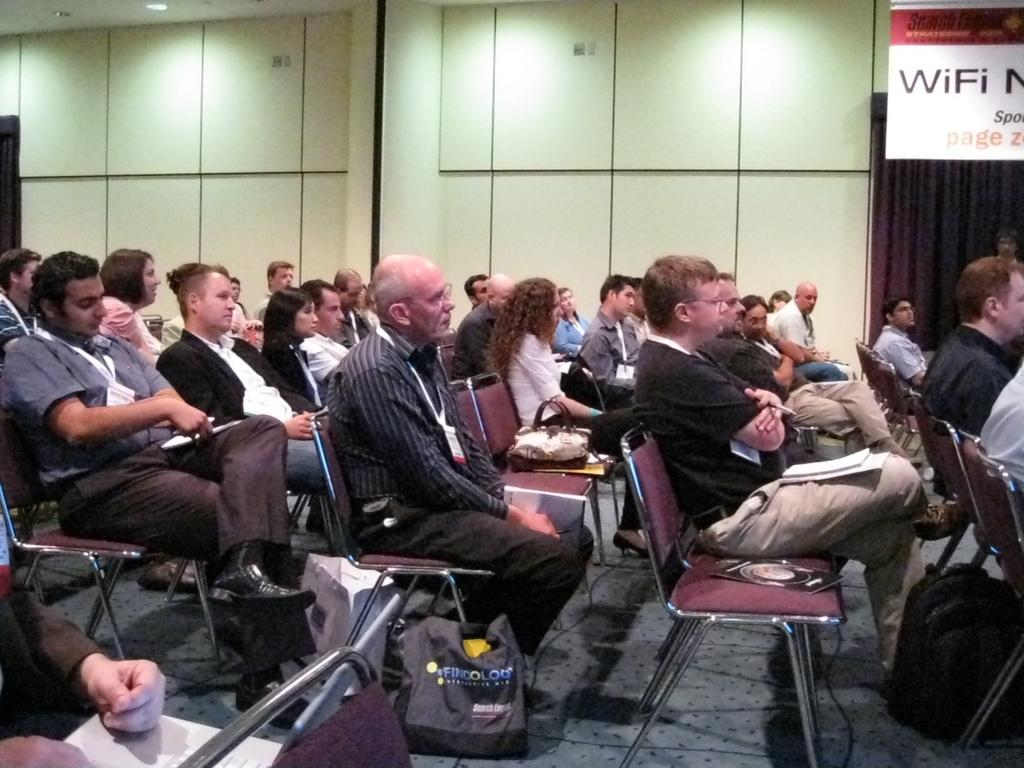Chair: (0, 315, 1023, 767), (614, 420, 847, 767)
